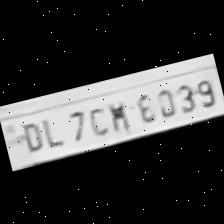0: (150, 82, 178, 120)
3: (170, 78, 198, 116)
6: (128, 88, 158, 127)
7: (60, 106, 91, 146)
9: (190, 74, 218, 110)
C: (81, 103, 109, 140)
D: (12, 116, 45, 155)
L: (35, 110, 66, 150)
M: (100, 97, 132, 136)
